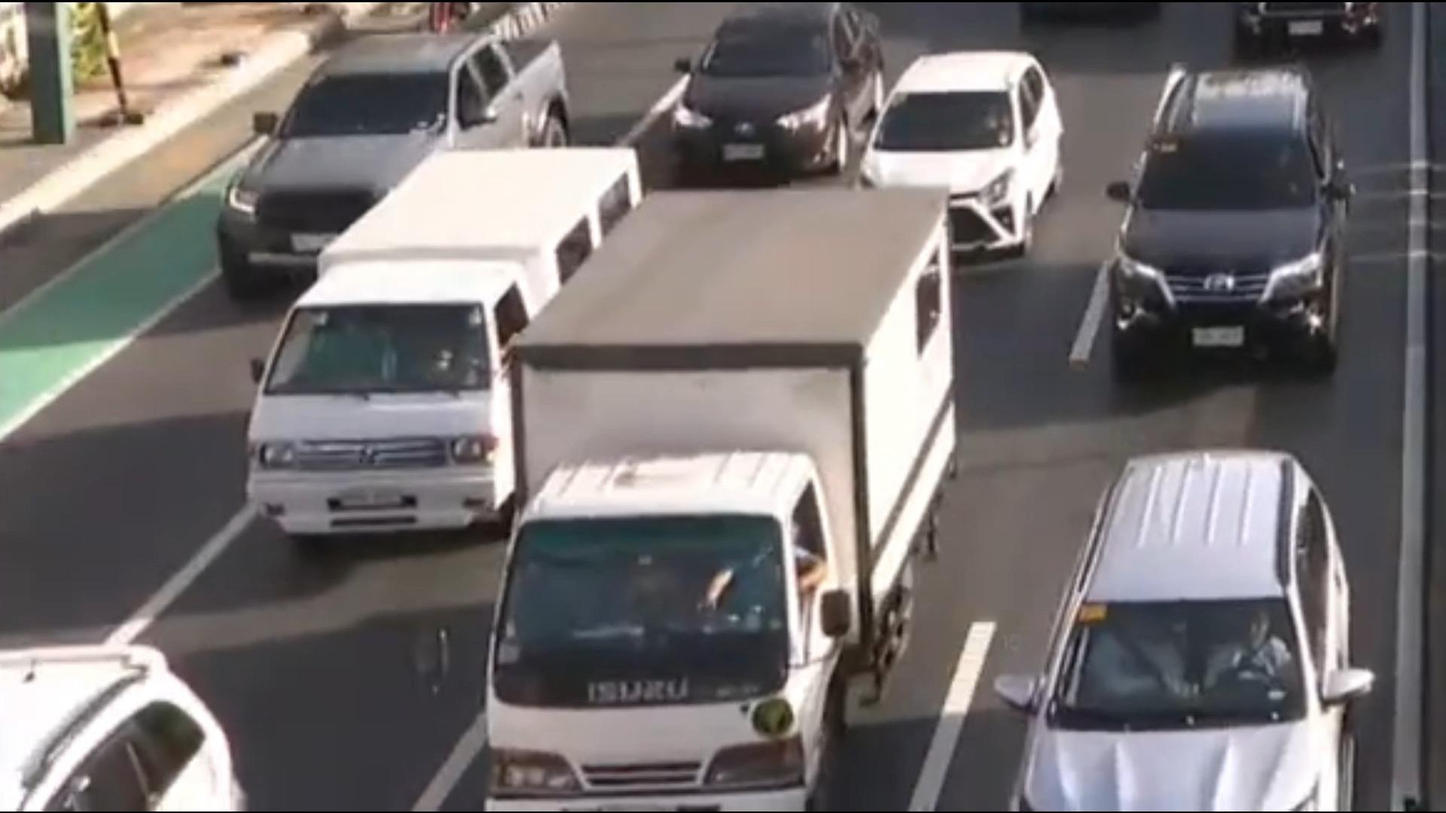Multicab: (206, 130, 674, 542)
Pickup: (158, 0, 609, 317)
SUV: (979, 446, 1414, 813), (1071, 51, 1382, 420), (667, 0, 887, 194)
Sedan: (854, 44, 1083, 271)
Truck: (355, 168, 1015, 813)
